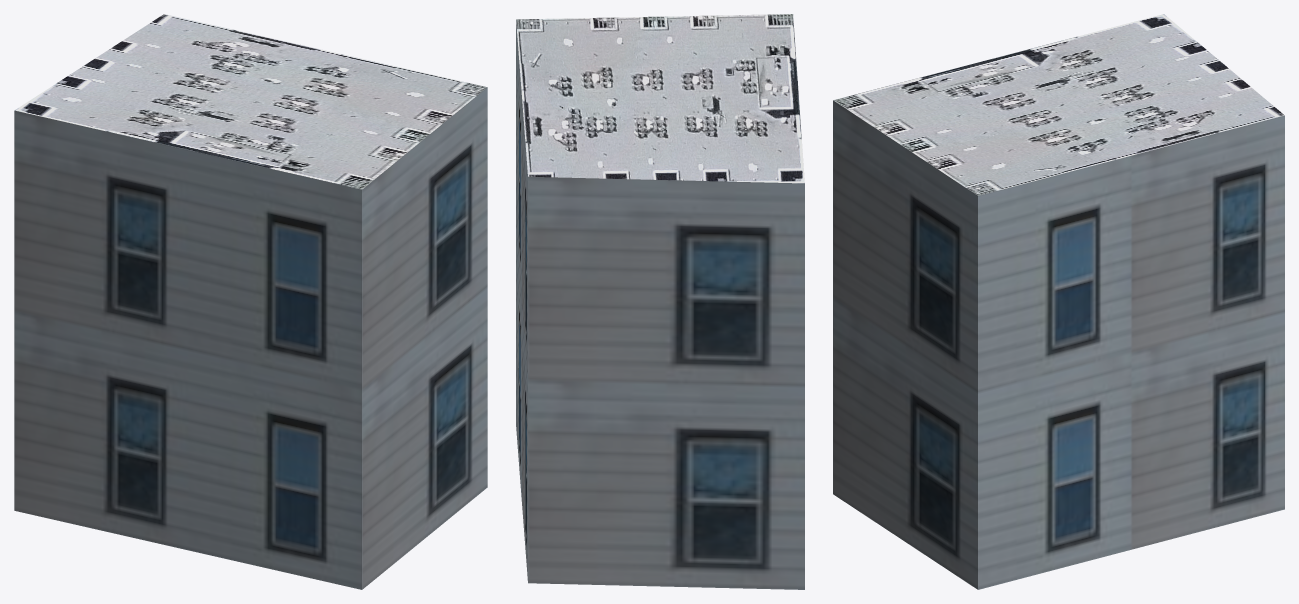
The model's file is ResTex__1504.fbx.
The picture shows the model from 3 angles, left to right: view 1: azimuth 30°, elevation 25°; view 2: azimuth 150°, elevation 25°; view 3: azimuth 270°, elevation 25°; orthographic projection. The views are drawn at different scales.
Visible parts, largest first — view 1: CityEngineMaterial_18_m, CityEngineMaterial_2_m; view 2: CityEngineMaterial_18_m, CityEngineMaterial_2_m; view 3: CityEngineMaterial_18_m, CityEngineMaterial_2_m.
Boxes of the visible parts, x1,y1,x2,y2 form: CityEngineMaterial_18_m: (14, 87, 487, 589); CityEngineMaterial_2_m: (14, 14, 487, 189); CityEngineMaterial_18_m: (516, 20, 804, 589); CityEngineMaterial_2_m: (516, 14, 804, 183); CityEngineMaterial_18_m: (833, 100, 1284, 589); CityEngineMaterial_2_m: (833, 14, 1284, 195).
Bounding box in the file's own units: 5.94 × 6 × 6.24.
2 materials, 2 textured.
